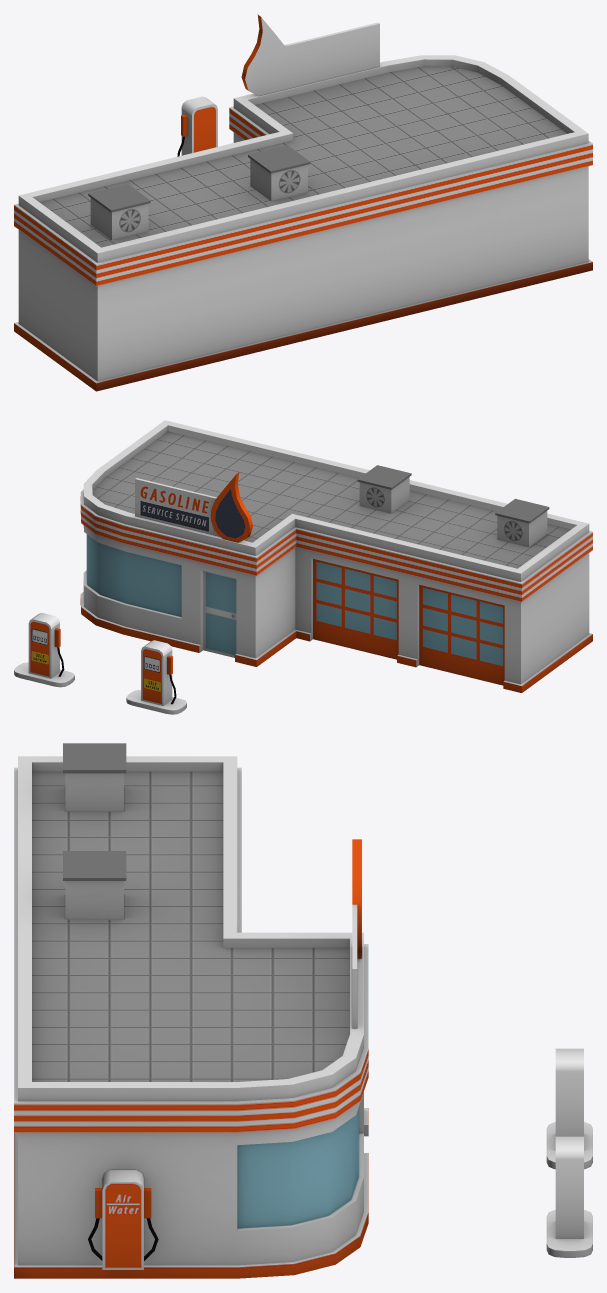
Rendered from HOS0610009.fbx.
The picture shows the model from 3 angles, top to bottom: view 1: azimuth 30°, elevation 25°; view 2: azimuth 150°, elevation 25°; view 3: azimuth 270°, elevation 25°; orthographic projection. The views are drawn at different scales.
Parts seen in each view (by area): view 1: smHOS0610009; view 2: smHOS0610009; view 3: smHOS0610009.
Boxes of the visible parts, x1,y1,x2,y2 form: smHOS0610009: (14,14,592,391); smHOS0610009: (14,420,592,714); smHOS0610009: (14,743,592,1278).
Size of what is drawn, in the model's own units: 1616 by 650 by 1144.
Materials: 1 (1 with a texture image).
